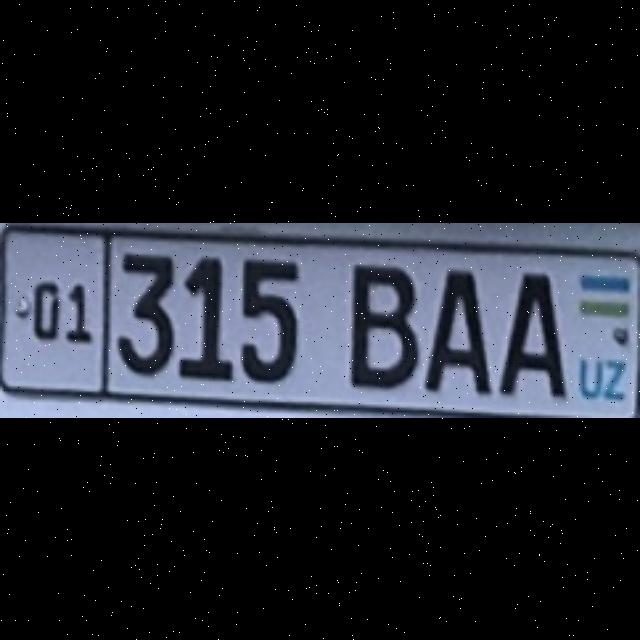0: (29, 278, 55, 336)
1: (174, 254, 230, 378), (64, 280, 90, 342)
3: (114, 249, 172, 373)
5: (238, 257, 296, 381)
A: (423, 267, 489, 391), (497, 270, 563, 394)
B: (346, 262, 416, 386)
